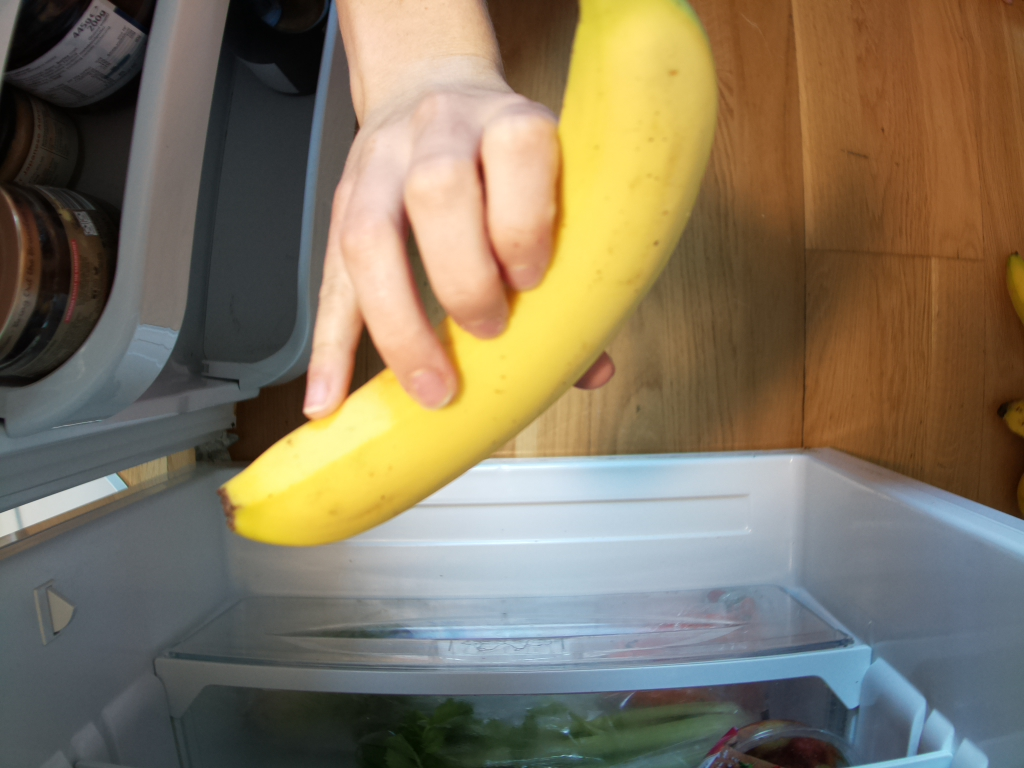banana: (224, 1, 722, 554)
